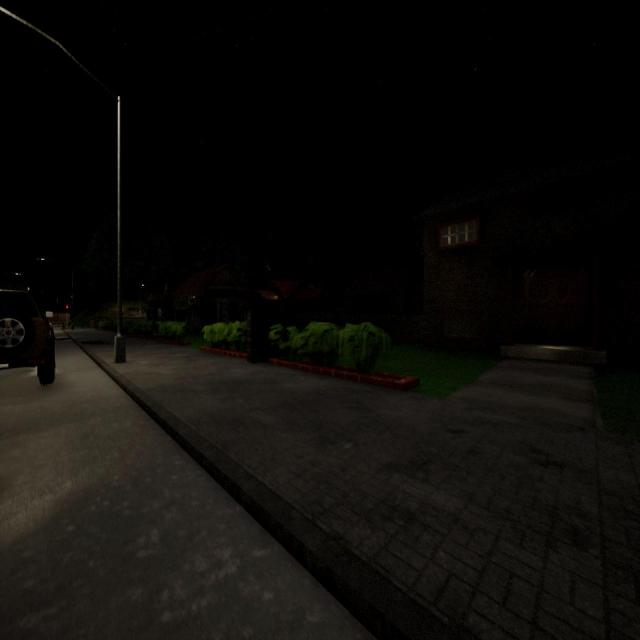Vehicle: (0, 287, 55, 384)
traffic_light: (65, 304, 69, 314)
